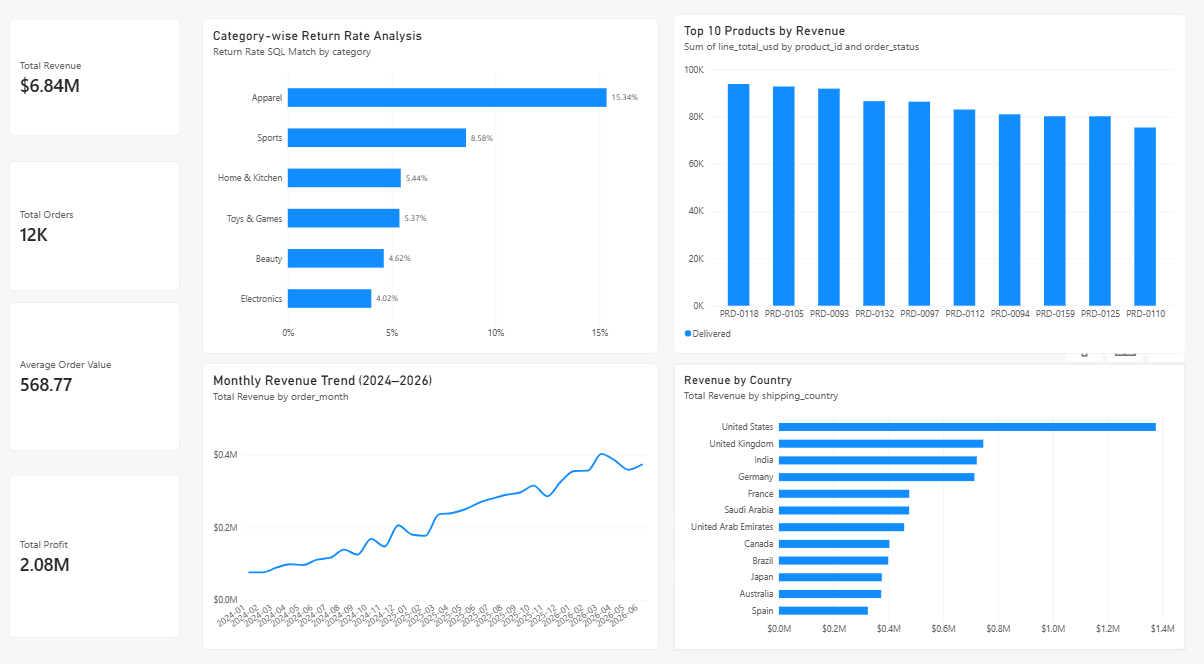

Layout of this report page (visuals, bound fields, positions):
{"tool":"powerbi","page":{"name":"Executive Sales Dashboard","canvas":[1920,1080],"ordinal":0},"visuals":[{"type":"cardVisual","fields":{"Data":["ecommerce_analytics customers.Total Revenue"]},"box":[20,40,272.5,187.5],"z":0},{"type":"cardVisual","fields":{"Data":["ecommerce_analytics customers.Total Orders"]},"box":[20,267.5,272.5,207.5],"z":1000},{"type":"cardVisual","fields":{"Data":["ecommerce_analytics customers.Total Profit"]},"box":[20,765,272.5,260],"z":2000},{"type":"cardVisual","fields":{"Data":["ecommerce_analytics customers.Average Order Value"]},"box":[20,492.5,272.5,237.5],"z":3000},{"type":"lineChart","title":"Monthly Revenue Trend (2024–2026)","fields":{"Category":["ecommerce_analytics orders.order_month"],"Y":["ecommerce_analytics customers.Total Revenue"]},"box":[327.5,590,725,455],"z":4000},{"type":"clusteredBarChart","title":"Revenue by Country","fields":{"Category":["ecommerce_analytics orders.shipping_country"],"Y":["ecommerce_analytics customers.Total Revenue"]},"box":[1075,590,815,455],"z":5000},{"type":"clusteredColumnChart","title":"Top 10 Products by Revenue","fields":{"Category":["ecommerce_analytics order_items.product_id"],"Series":["ecommerce_analytics orders.order_status"],"Y":["Sum(ecommerce_analytics order_items.line_total_usd)"]},"box":[1075,32.5,815,540],"z":6000},{"type":"clusteredBarChart","title":"Category-wise Return Rate Analysis","fields":{"Category":["ecommerce_analytics products.category"],"Y":["ecommerce_analytics customers.Return Rate SQL Match"]},"box":[327.5,40,725,532.5],"z":7000}]}

Visuals, with their boxes in screenshot pixels (x1, y1, x2, y2), scaled from the page's 1920x1080 canvas onto the 1204x664 screenshot:
cardVisual - ecommerce_analytics customers.Total Revenue: left=13, top=25, right=183, bottom=140
cardVisual - ecommerce_analytics customers.Total Orders: left=13, top=164, right=183, bottom=292
cardVisual - ecommerce_analytics customers.Total Profit: left=13, top=470, right=183, bottom=630
cardVisual - ecommerce_analytics customers.Average Order Value: left=13, top=303, right=183, bottom=449
"Monthly Revenue Trend (2024–2026)" lineChart: left=205, top=363, right=660, bottom=642
"Revenue by Country" clusteredBarChart: left=674, top=363, right=1185, bottom=642
"Top 10 Products by Revenue" clusteredColumnChart: left=674, top=20, right=1185, bottom=352
"Category-wise Return Rate Analysis" clusteredBarChart: left=205, top=25, right=660, bottom=352
